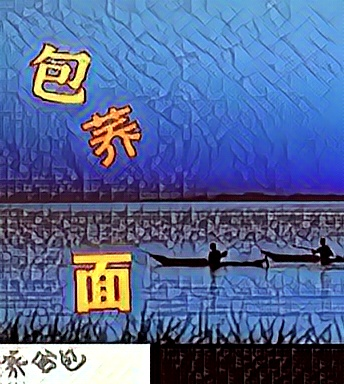B0FC: (29, 38, 92, 105)
C3E6: (71, 245, 134, 312)
DCF1: (81, 101, 144, 168)
